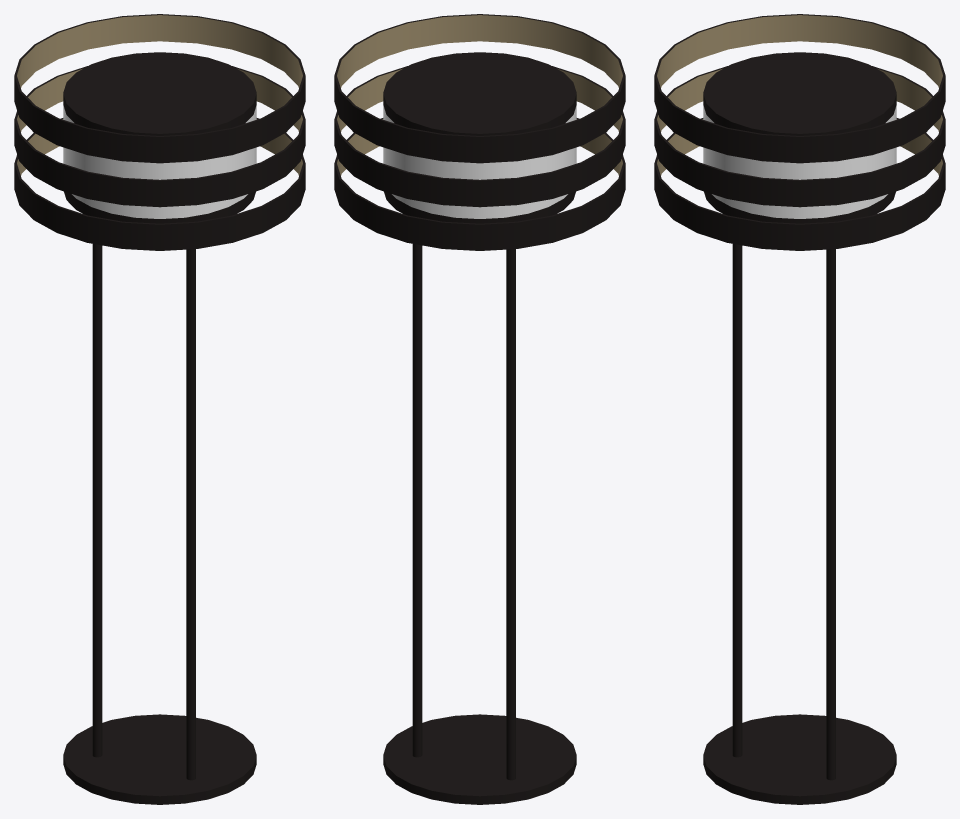
The model's file is planet_floor_lamp.dae.
3 views of the same model, side by side, from view 1: azimuth 30°, elevation 25°; view 2: azimuth 150°, elevation 25°; view 3: azimuth 270°, elevation 25° (orthographic).
Parts seen in each view (by area): view 1: Model; view 2: Model; view 3: Model.
Boxes of the visible parts, x1,y1,x2,y2 form: Model: (14,14,305,804); Model: (334,14,625,804); Model: (654,14,945,804).
Size of the model in its own units: 60.17 by 60.17 by 157.
